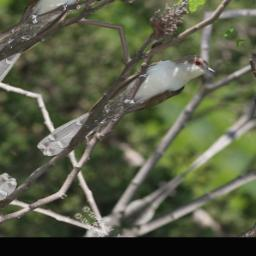Cuckoo: (32, 27, 223, 189)
